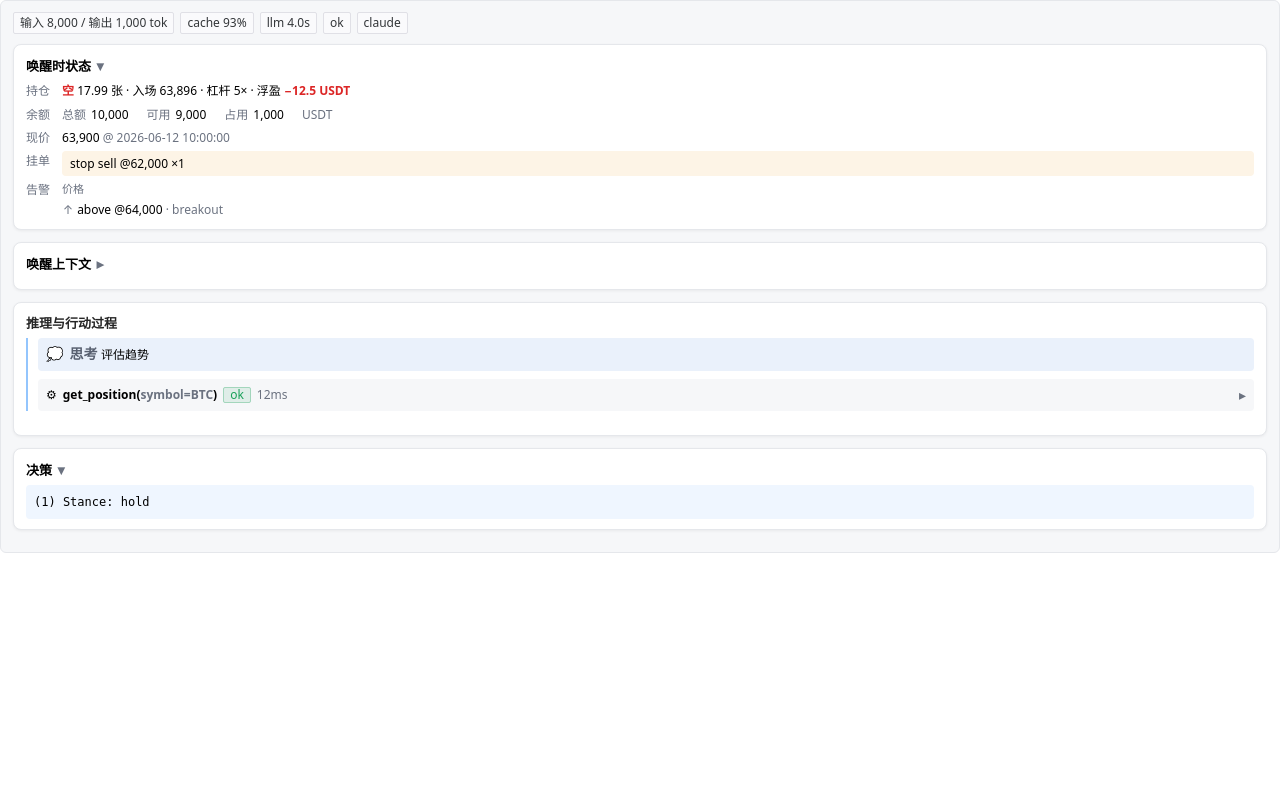
Scenario: CycleDetailPanel › 决策块默认展开、可折叠（caret 切换 + 点击收起内容）
Expected: the text with class "toggle-caret" next to "决策" reads "▾", [57, 460, 64, 479]
Expected: the text "(1) Stance: hold" is shown, [26, 485, 1254, 519]
Click the heading with class "decision-toggle" at (45,469), box [26, 460, 64, 479]
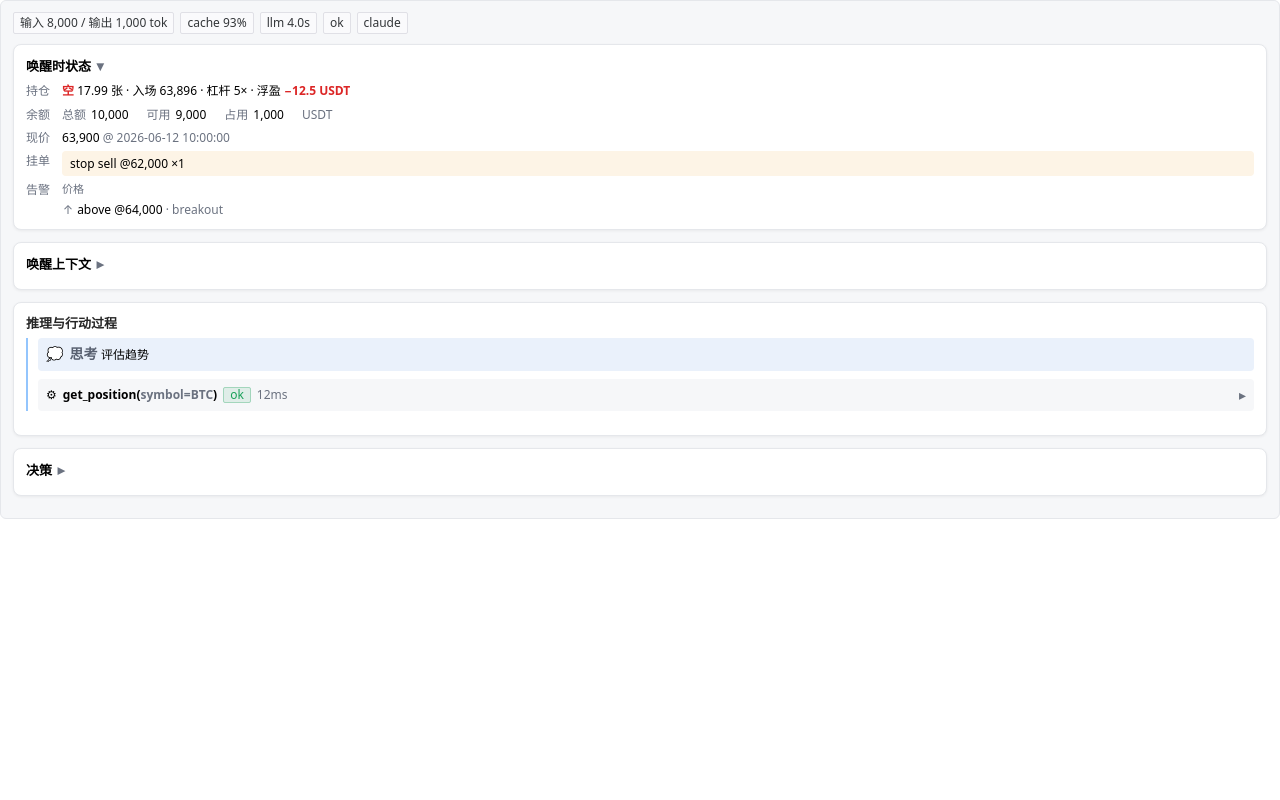
Expected: the text with class "toggle-caret" next to "决策" reads "▸", [57, 460, 64, 479]
